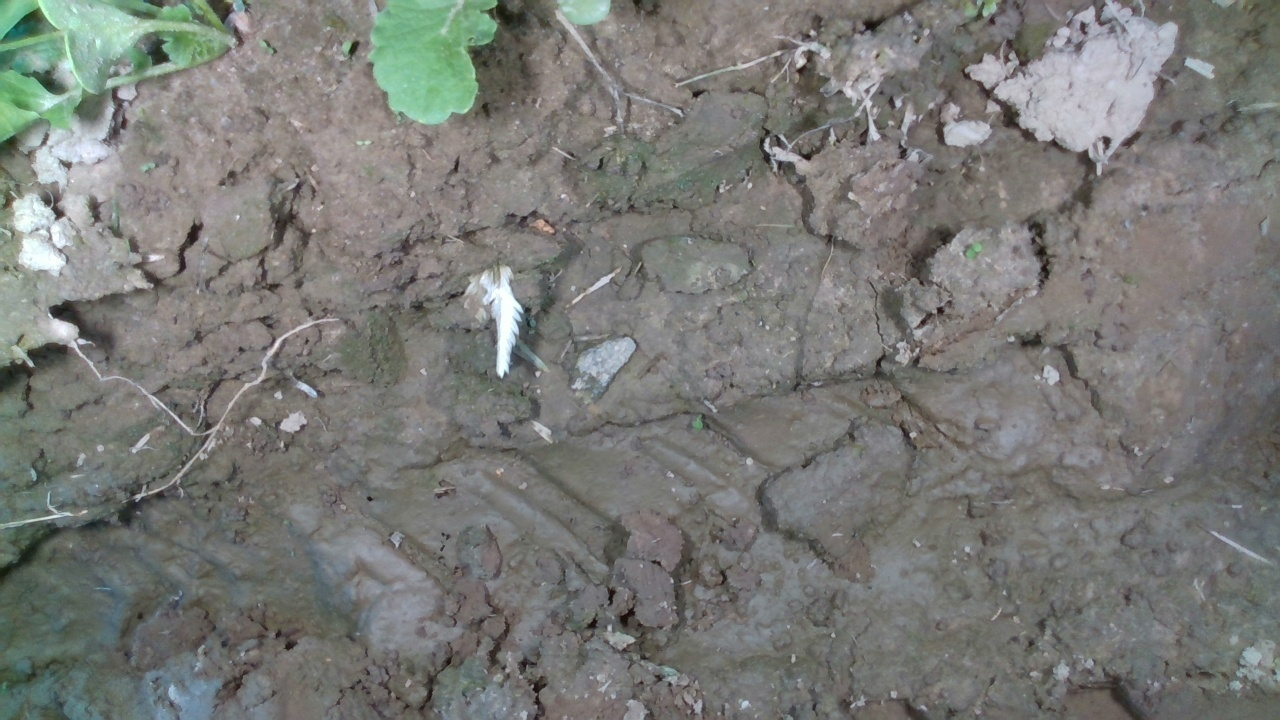weed: (963, 240, 982, 260)
